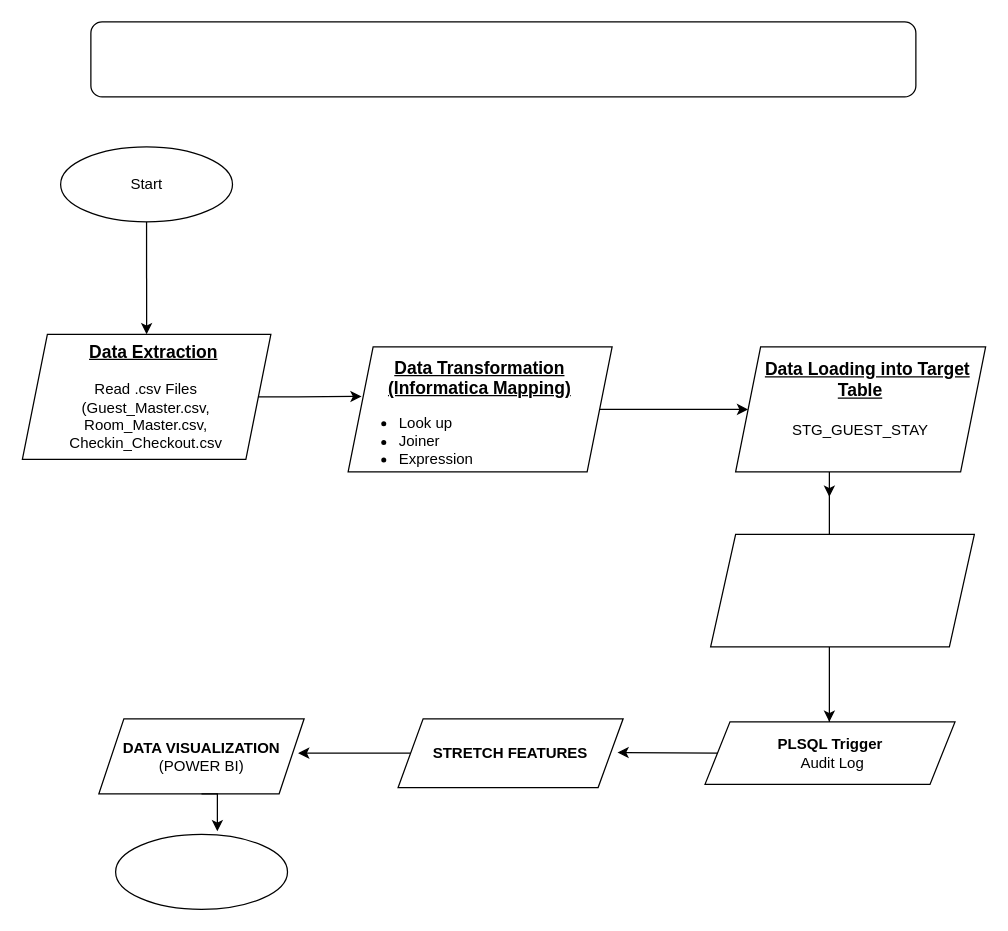
Image size: 1008x931. Some labels were removed from this diagram. Here are the shapes that lost their labels. From the top down, the centre of each, then its label:
[503,59]: HOSPITALITY DATA DESIGNING FLOW
[841,590]: PL/SQL Procedure Daily report Monthly Report Room Type Revenue
[201,871]: END
